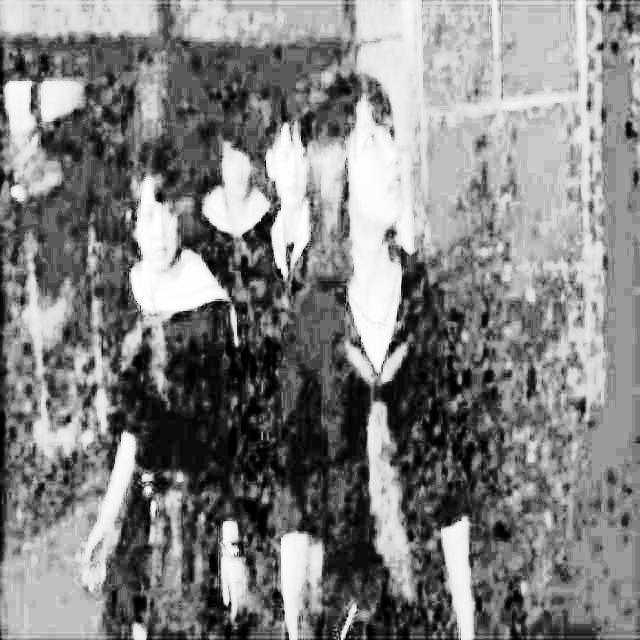Person: (271, 64, 480, 640), (82, 143, 255, 640), (270, 98, 321, 303), (207, 133, 272, 287)
